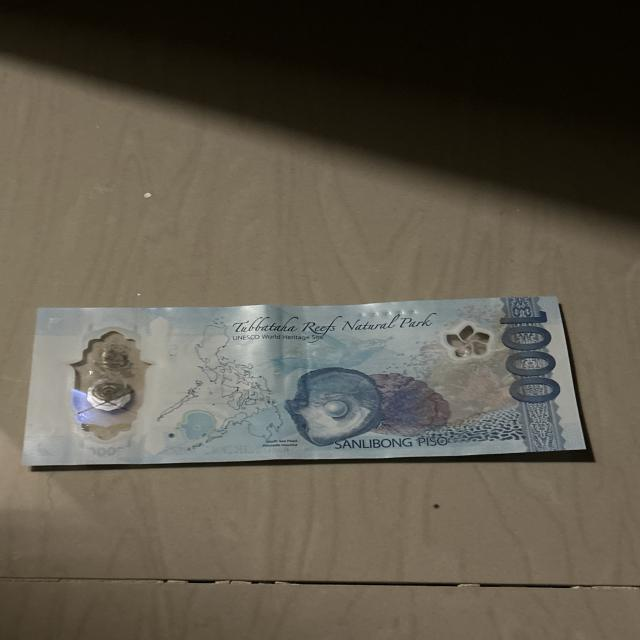clear_window: (69, 329, 153, 434)
sampaguita: (446, 322, 489, 360)
